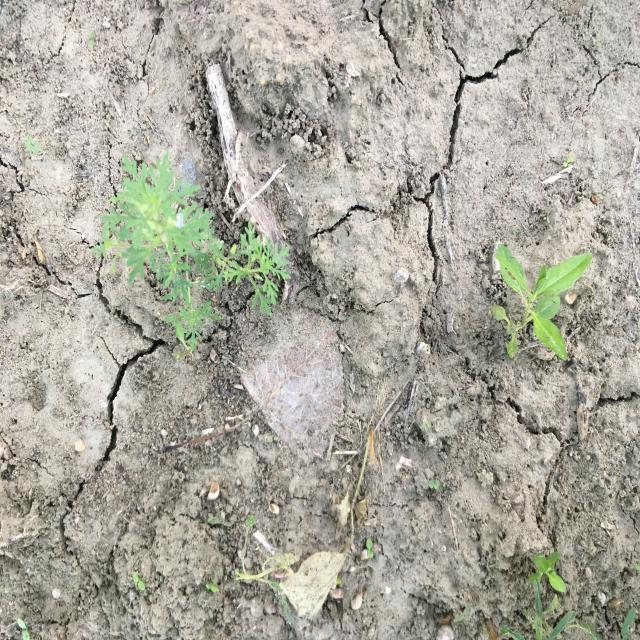Eclipta: (491, 241, 593, 362)
Ragweed: (88, 146, 293, 352)
